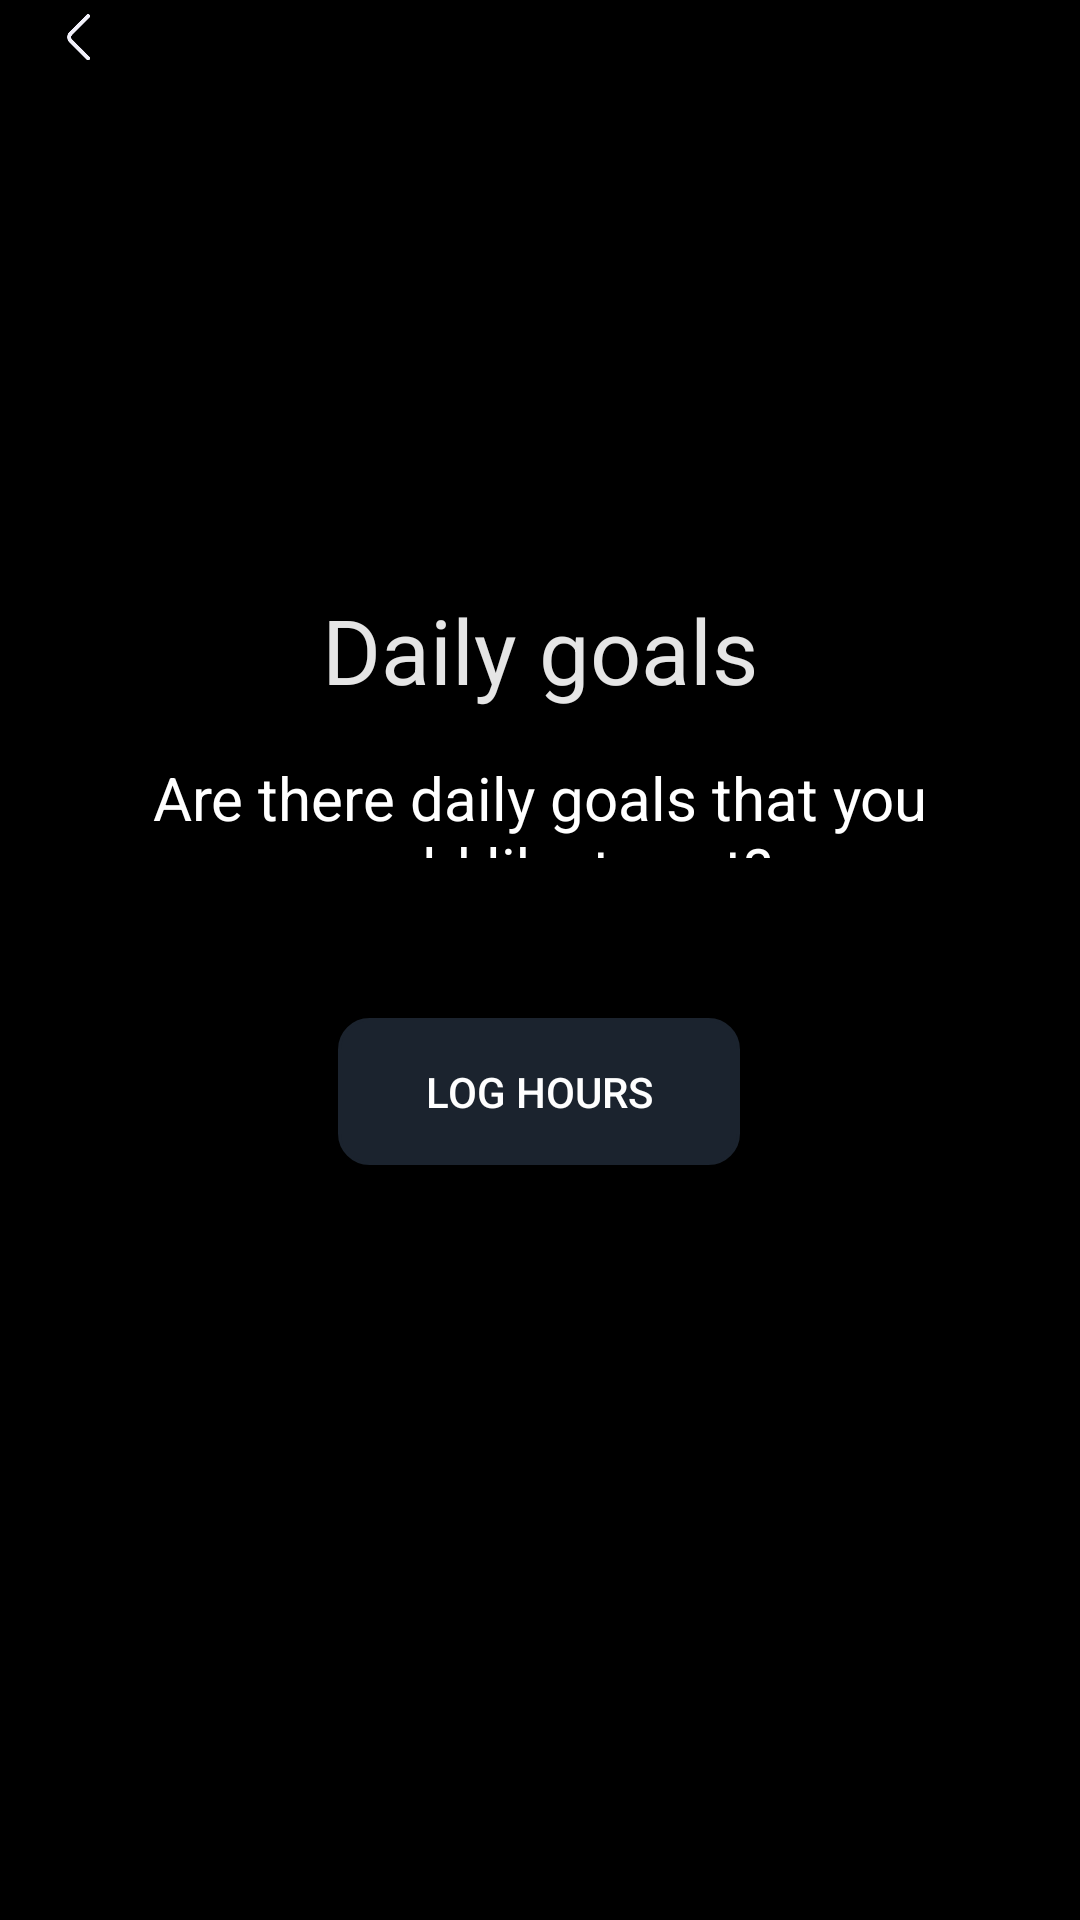

Icons on this 1080×1920 Android screen, each with the point to tap as point (x, y):
back: point (78, 37)
